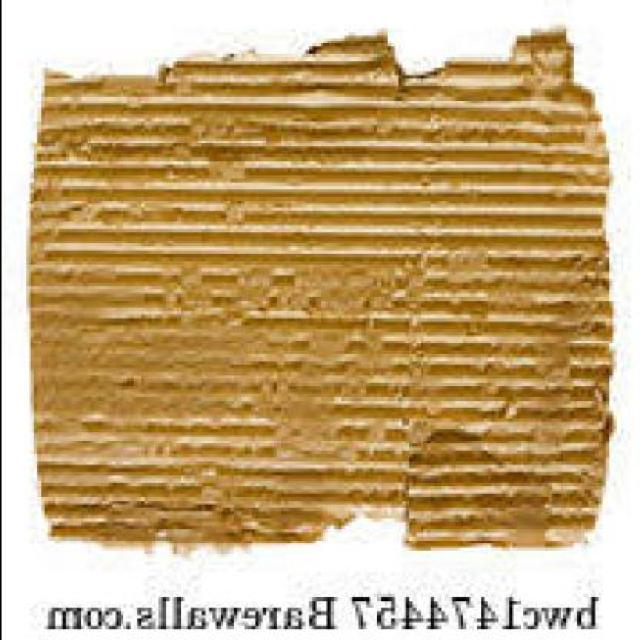CARDBOARD: (22, 21, 604, 554)
